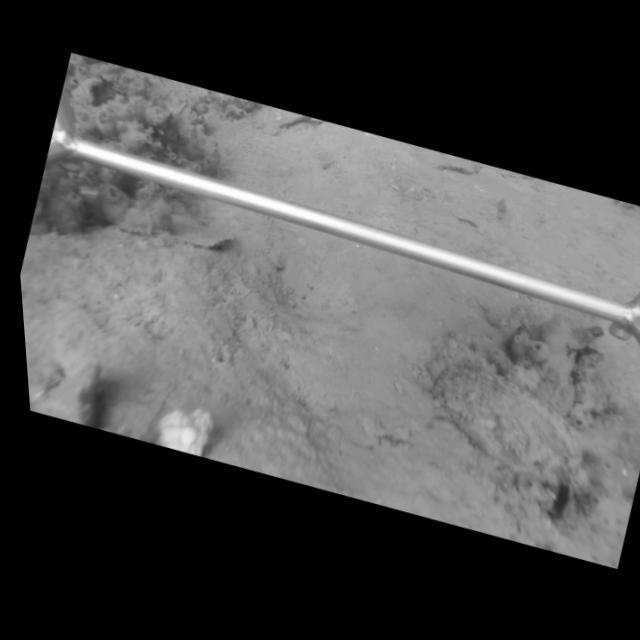Oyster-Indeterminate: (435, 364, 591, 488)
